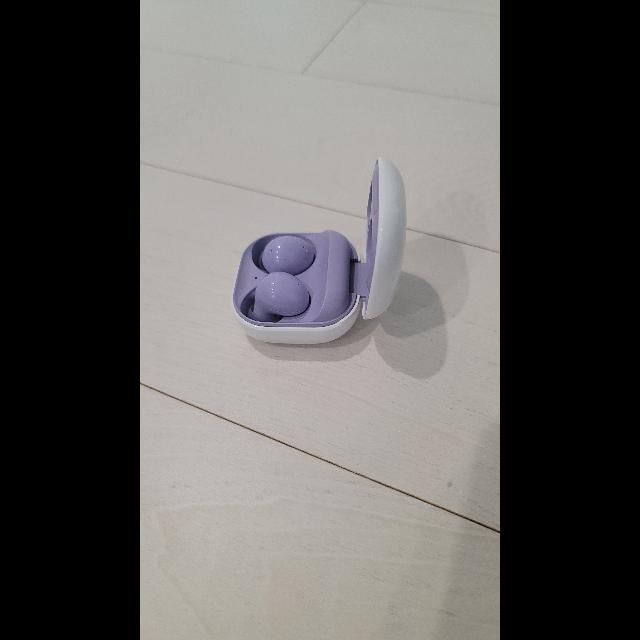GALAXY-BUDS-2: (232, 158, 406, 344)
